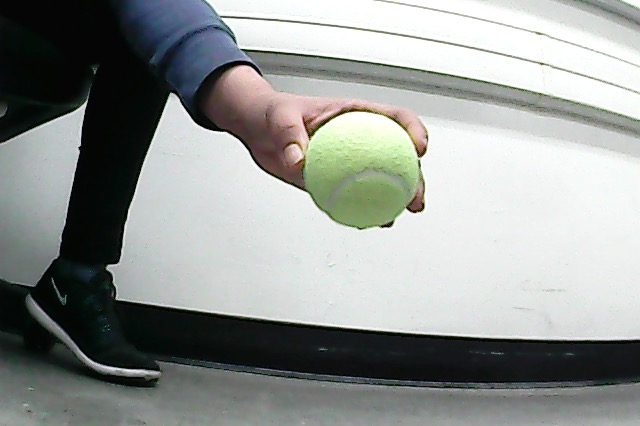ball: (300, 105, 424, 232)
